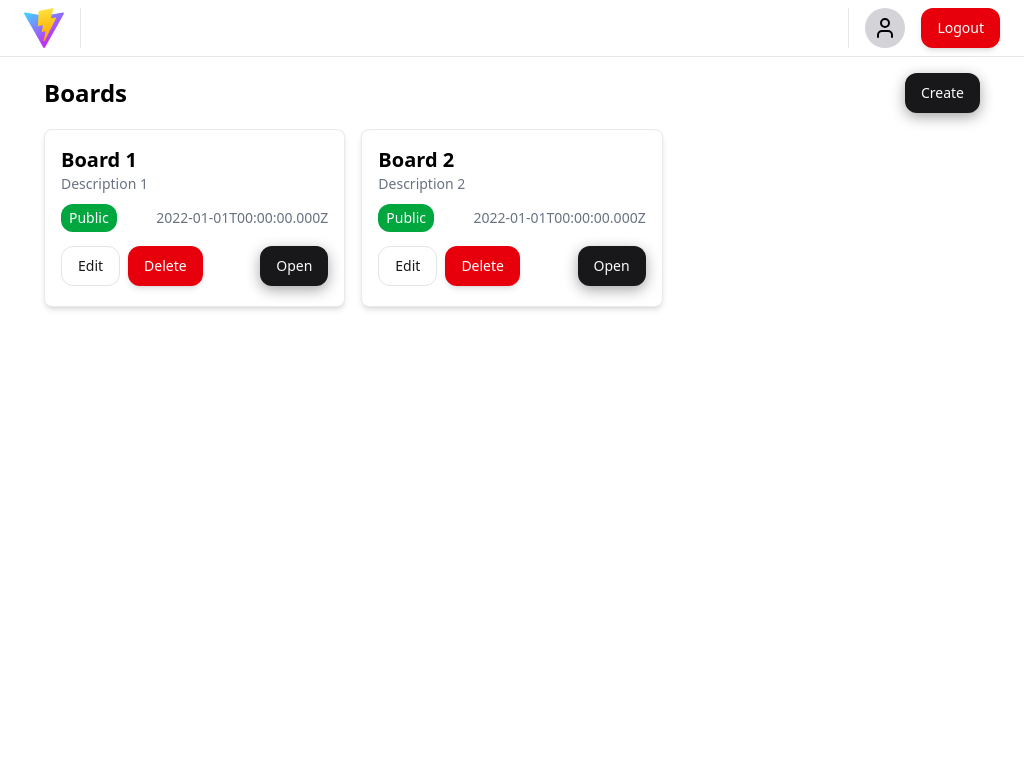
Scenario: Board Data Loading › Should edit the board details when the user changes it
This screenshot has width=1024, height=768.
Expected: the button "Edit" below "Description 2" is shown, left=378, top=246, right=437, bottom=286
Click the button "Edit" below "Description 1" at (91,266), box left=61, top=246, right=120, bottom=286
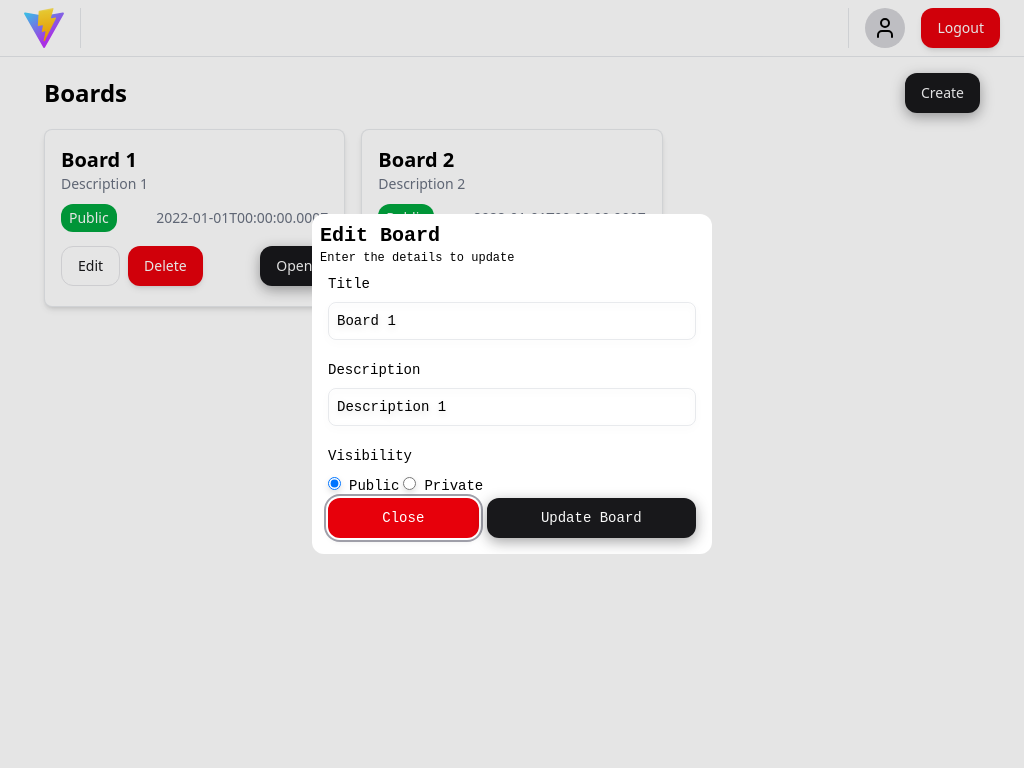
Expected: the heading "Edit Board" is shown, left=320, top=224, right=440, bottom=247
Expected: the radio button labelled "Public" is checked, left=328, top=477, right=341, bottom=490
Expected: the radio button labelled "Private" is not checked
Click the radio button labelled "Private" at (410,484), box left=403, top=477, right=416, bottom=490
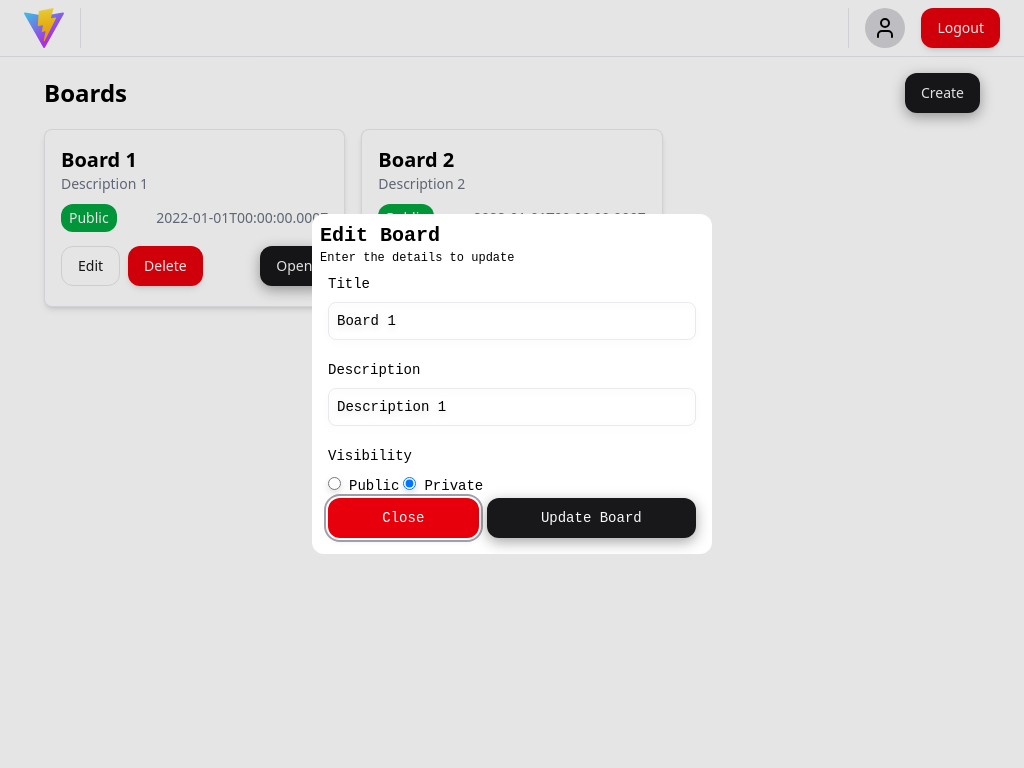
Expected: the radio button labelled "Private" is checked, left=403, top=477, right=416, bottom=490
Expected: the radio button labelled "Public" is not checked, left=328, top=477, right=341, bottom=490
Replace the text in the field labelled "Title" with "New Title" at (512,321), box left=328, top=302, right=696, bottom=340
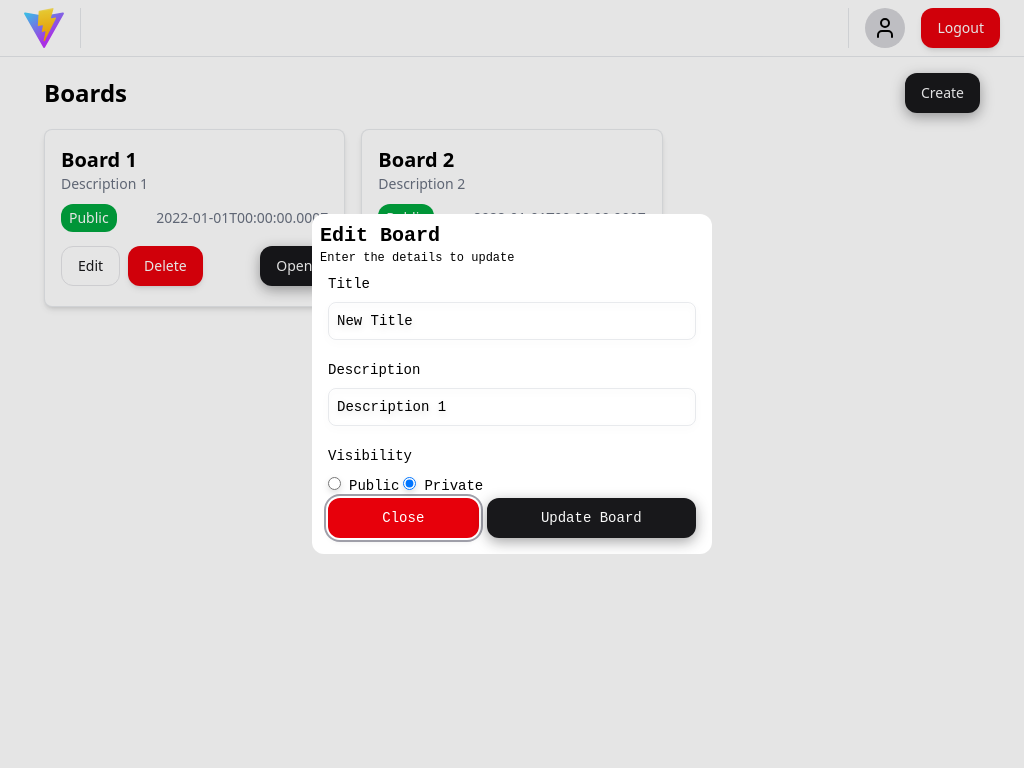
Replace the text in the field labelled "Description" with "New Description" at (512,407), box left=328, top=388, right=696, bottom=426
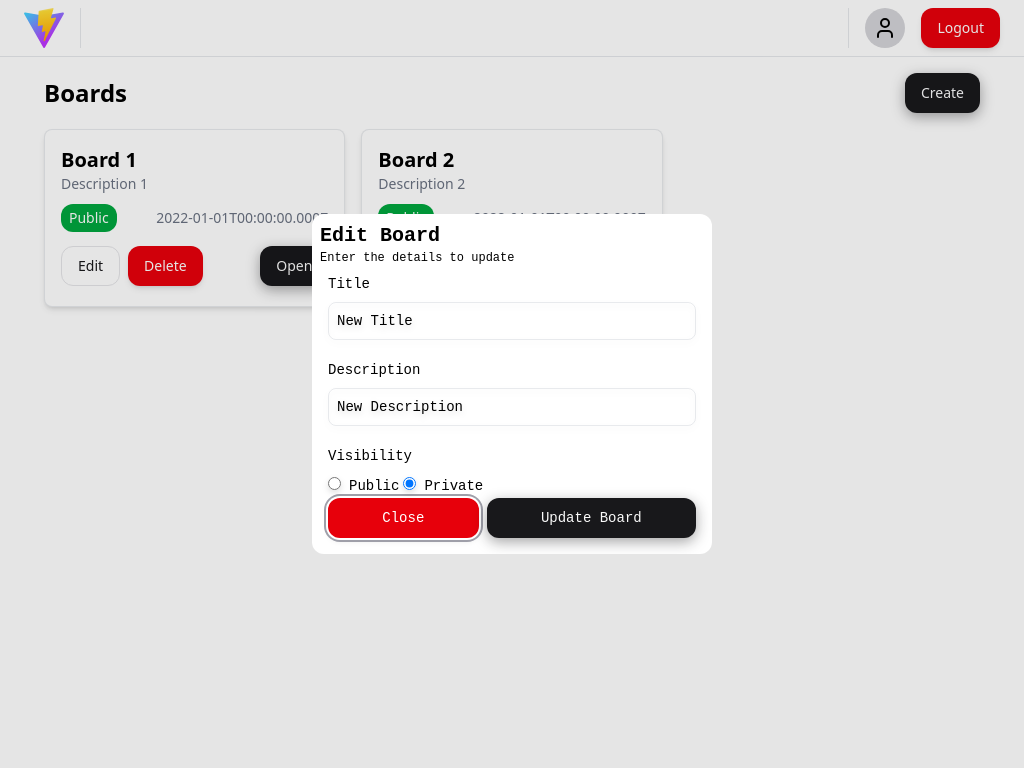
Click the button "Update Board" at (591,518), box left=487, top=498, right=696, bottom=538
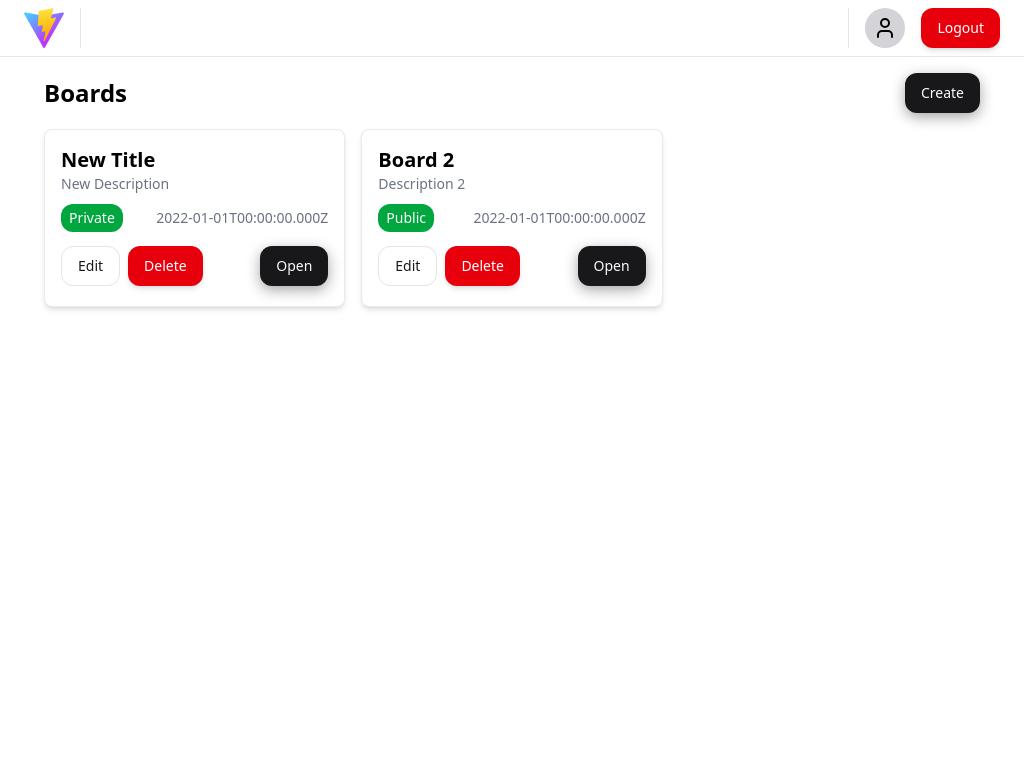
Expected: the heading "New Title" is shown, left=61, top=146, right=155, bottom=173
Expected: the text "New Description" is shown, left=61, top=174, right=169, bottom=193
Expected: the text "Private" is shown, left=61, top=204, right=123, bottom=232
